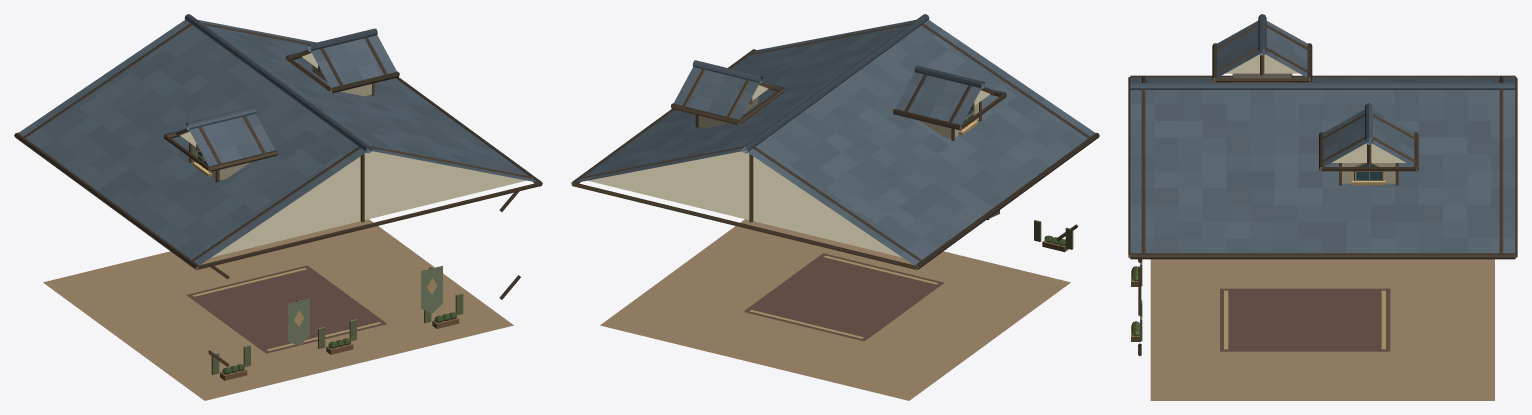
The picture shows the model from 3 angles, left to right: view 1: azimuth 30°, elevation 25°; view 2: azimuth 150°, elevation 25°; view 3: azimuth 270°, elevation 25°; orthographic projection. The views are drawn at different scales.
Parts seen in each view (by area): view 1: 140dee4d4f7975992750132d05097ecc5620dd474767ea46d524334017c0; view 2: 140dee4d4f7975992750132d05097ecc5620dd474767ea46d524334017c0; view 3: 140dee4d4f7975992750132d05097ecc5620dd474767ea46d524334017c0.
Part boxes in pixels (<box>): 140dee4d4f7975992750132d05097ecc5620dd474767ea46d524334017c0: <box>14,14,542,400</box>; 140dee4d4f7975992750132d05097ecc5620dd474767ea46d524334017c0: <box>571,14,1099,400</box>; 140dee4d4f7975992750132d05097ecc5620dd474767ea46d524334017c0: <box>1128,14,1517,400</box>.
Size of the model in its own units: 12.02 by 7.61 by 10.97.
6 materials, 1 textured.
